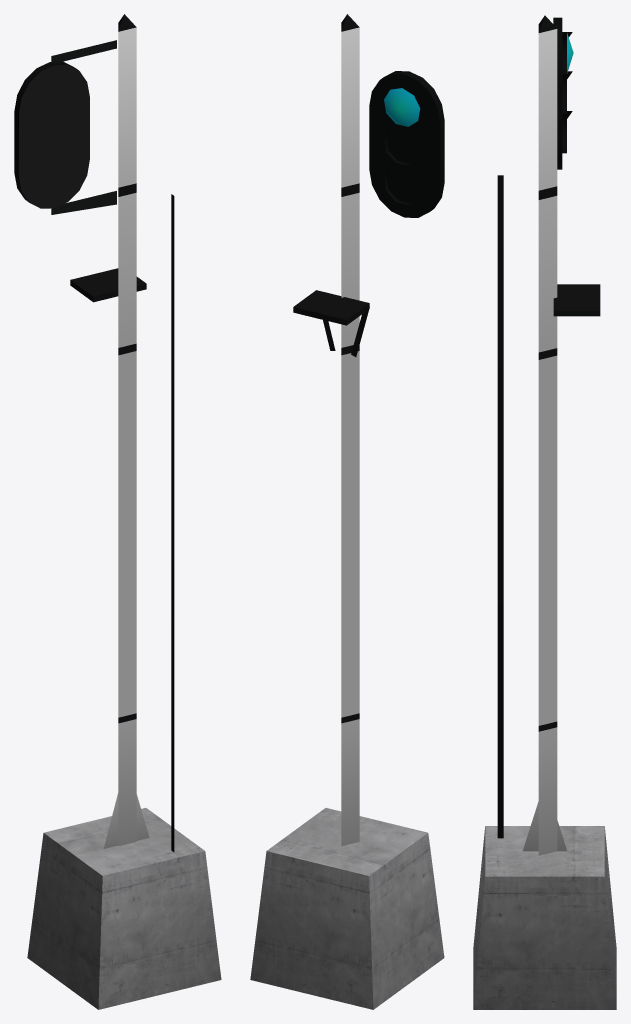
The model's file is AMB_SIGNAL_1BLUE.glb.
The picture shows the model from 3 angles, left to right: view 1: azimuth 30°, elevation 25°; view 2: azimuth 150°, elevation 25°; view 3: azimuth 270°, elevation 25°; orthographic projection.
Visible parts, largest first — view 1: obj26; view 2: obj26; view 3: obj26.
Part boxes in pixels (box(x1,y1,x2,y2)): obj26: box(14, 14, 221, 1009); obj26: box(250, 14, 444, 1009); obj26: box(473, 15, 616, 1009).
Bounding box in the file's own units: 3.05 × 17.08 × 2.3.
Materials: 6 (6 with a texture image).
